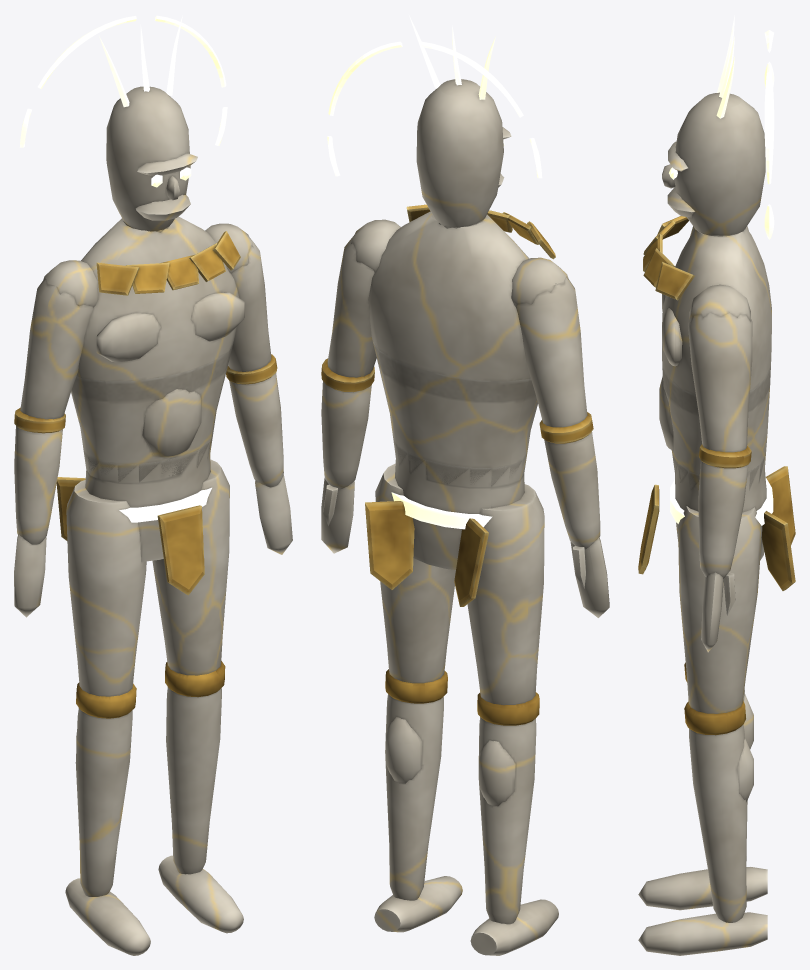
File: underworld-surtling-radiance-masculine.glb
3 renders of one model, left to right at view 1: azimuth 30°, elevation 25°; view 2: azimuth 150°, elevation 25°; view 3: azimuth 270°, elevation 25°, orthographic. The views are drawn at different scales.
Parts seen in each view (by area): view 1: LeftUpperLeg.thigh, Chest.chest, Spine.abdomen, RightUpperLeg.thigh, Head.head, LeftLowerLeg.shin, RightLowerLeg.shin, LeftUpperArm.upper-arm, Hips.pelvis, LeftLowerArm.forearm, RightLowerArm.forearm, RightUpperArm.upper-arm (+25 smaller); view 2: Chest.chest, Spine.abdomen, LeftUpperLeg.thigh, Head.head, RightUpperLeg.thigh, LeftLowerLeg.shin, RightLowerLeg.shin, LeftUpperArm.upper-arm, Hips.pelvis, RightUpperArm.upper-arm, LeftLowerArm.forearm, RightLowerArm.forearm (+17 smaller); view 3: RightUpperLeg.thigh, Head.head, RightLowerLeg.shin, Chest.chest, RightUpperArm.upper-arm, RightLowerArm.forearm, Spine.abdomen, RightFoot.foot, LeftFoot.foot, Hips.pelvis, Hips.hip-plate-0, RightUpperArm.shoulder (+15 smaller).
Boxes of the visible parts, x1,y1,x2,y2 form: LeftUpperLeg.thigh: [66, 480, 146, 696]; Chest.chest: [76, 216, 239, 381]; Spine.abdomen: [71, 342, 233, 483]; RightUpperLeg.thigh: [152, 459, 229, 675]; Head.head: [106, 86, 190, 231]; LeftLowerLeg.shin: [75, 708, 132, 896]; RightLowerLeg.shin: [166, 687, 221, 874]; LeftUpperArm.upper-arm: [20, 278, 93, 419]; Hips.pelvis: [83, 435, 212, 561]; LeftLowerArm.forearm: [14, 426, 62, 544]; RightLowerArm.forearm: [229, 373, 283, 487]; RightUpperArm.upper-arm: [228, 238, 271, 371]; Chest.chest: [368, 211, 530, 381]; Spine.abdomen: [373, 342, 537, 487]; LeftUpperLeg.thigh: [467, 484, 544, 705]; Head.head: [416, 79, 503, 227]; RightUpperLeg.thigh: [375, 463, 455, 683]; LeftLowerLeg.shin: [478, 717, 536, 924]; RightLowerLeg.shin: [385, 694, 443, 900]; LeftUpperArm.upper-arm: [516, 277, 587, 427]; Hips.pelvis: [395, 445, 526, 569]; RightUpperArm.upper-arm: [327, 236, 376, 377]; LeftLowerArm.forearm: [544, 432, 600, 549]; RightLowerArm.forearm: [321, 381, 371, 489]; RightUpperLeg.thigh: [678, 506, 762, 713]; Head.head: [674, 92, 765, 235]; RightLowerLeg.shin: [689, 724, 747, 922]; Chest.chest: [662, 227, 771, 394]; RightUpperArm.upper-arm: [688, 312, 752, 452]; RightLowerArm.forearm: [698, 460, 748, 578]; Spine.abdomen: [662, 367, 770, 490]; RightFoot.foot: [638, 912, 767, 955]; LeftFoot.foot: [638, 867, 767, 910]; Hips.pelvis: [673, 454, 766, 560]; Hips.hip-plate-0: [761, 511, 795, 590]; RightUpperArm.shoulder: [689, 284, 750, 322].
Bounding box in the file's own units: 0.6574 × 2.01 × 0.3208.
3 materials, 3 textured.
